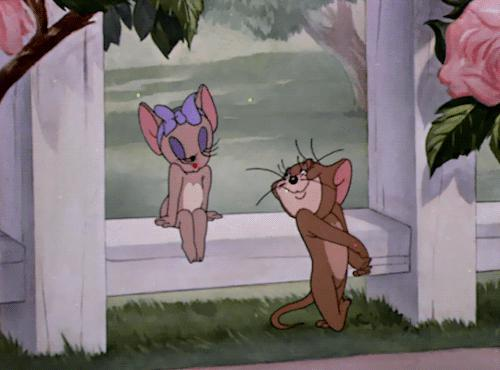jerry: (245, 139, 375, 333)
